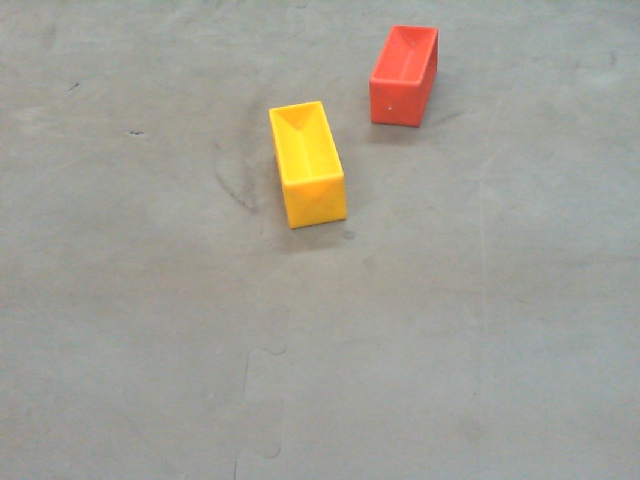RedSample: (363, 24, 442, 130)
YellowSample: (266, 97, 351, 233)
